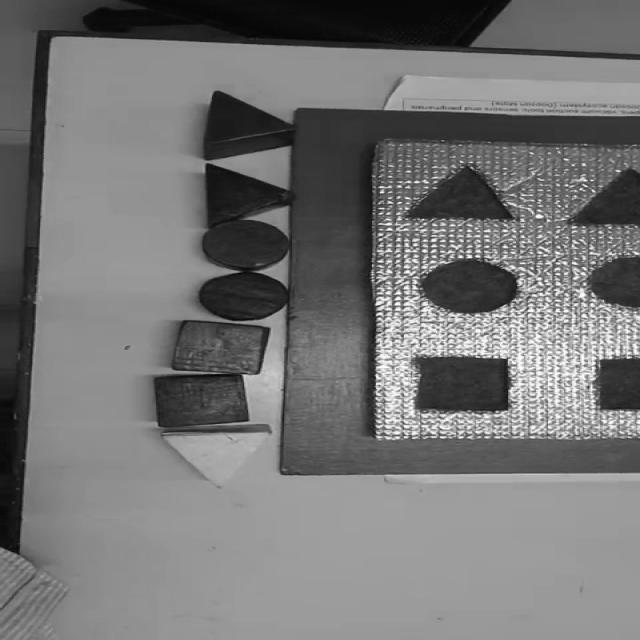bcircle: (198, 271, 289, 321)
bcube: (155, 374, 249, 427)
btriangle: (205, 164, 294, 226)
mtcircle: (419, 258, 522, 314), (586, 255, 640, 311)
mtcube: (414, 355, 513, 413), (594, 356, 640, 412)
mttriangle: (404, 164, 518, 222), (567, 168, 640, 228)
rcircle: (201, 220, 290, 270)
rcube: (171, 321, 270, 376)
rtriangle: (202, 90, 296, 160)
wb: (366, 138, 640, 442)
ytriangle: (161, 424, 273, 485)
